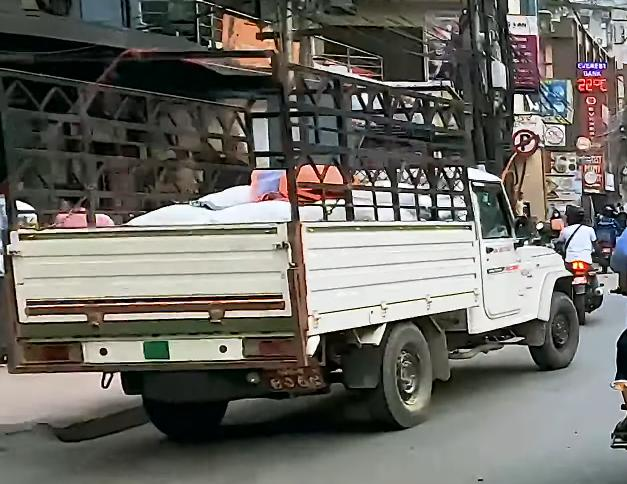transport_vehicle: (2, 37, 592, 428)
